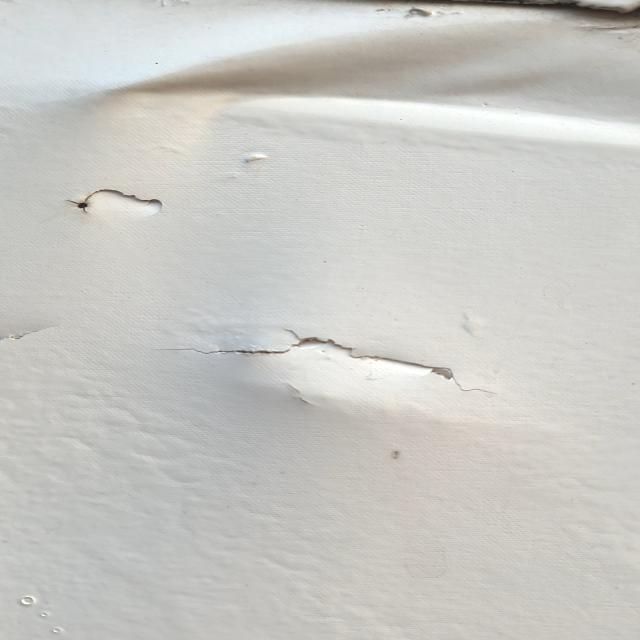Dents or Deformation: (220, 23, 632, 142)
Scratches: (189, 328, 572, 389), (64, 186, 199, 228), (1, 317, 94, 359)
